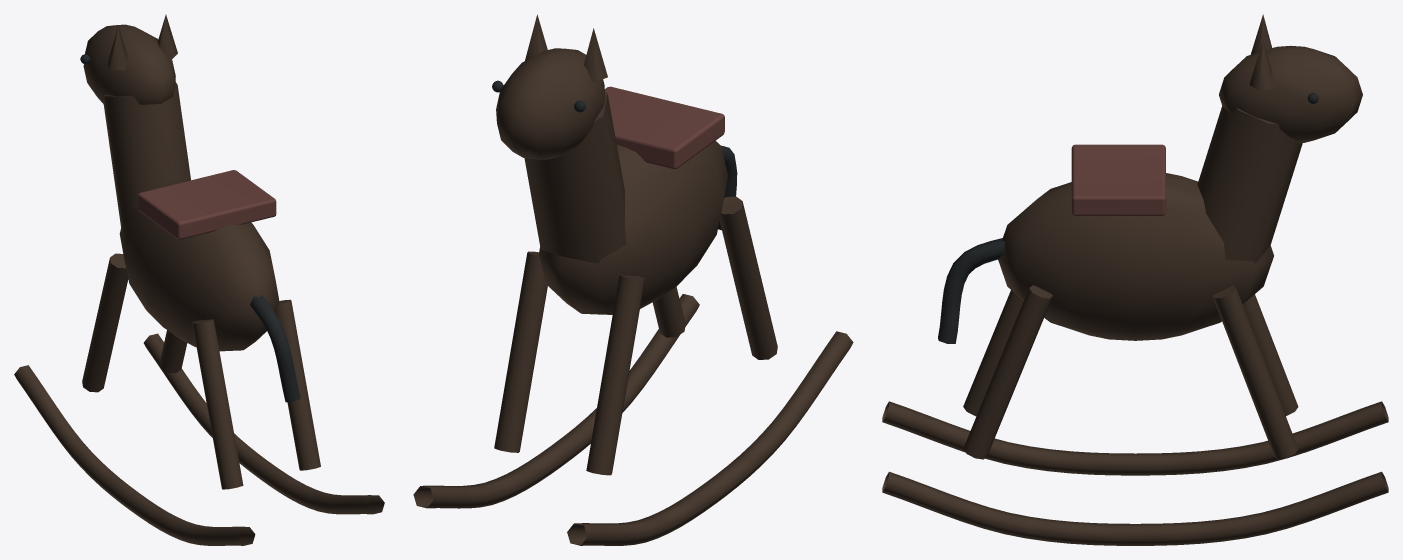
Rendered from prop-rocking-horse-v01.glb.
3 renders of one model, left to right at view 1: azimuth 30°, elevation 25°; view 2: azimuth 150°, elevation 25°; view 3: azimuth 270°, elevation 25°, orthographic. The views are drawn at different scales.
Parts seen in each view (by area): view 1: rocking-horse; view 2: rocking-horse; view 3: rocking-horse.
Part boxes in pixels (left/top/right/bottom): rocking-horse: left=14, top=14, right=384, bottom=545; rocking-horse: left=413, top=14, right=853, bottom=545; rocking-horse: left=882, top=14, right=1388, bottom=545.
Bounding box in the file's own units: 0.34 × 0.9573 × 0.912.
